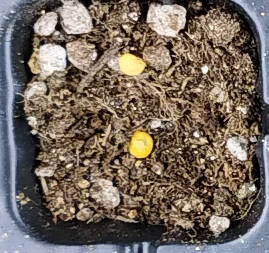chilli seed: (127, 131, 155, 159), (120, 52, 147, 76)
